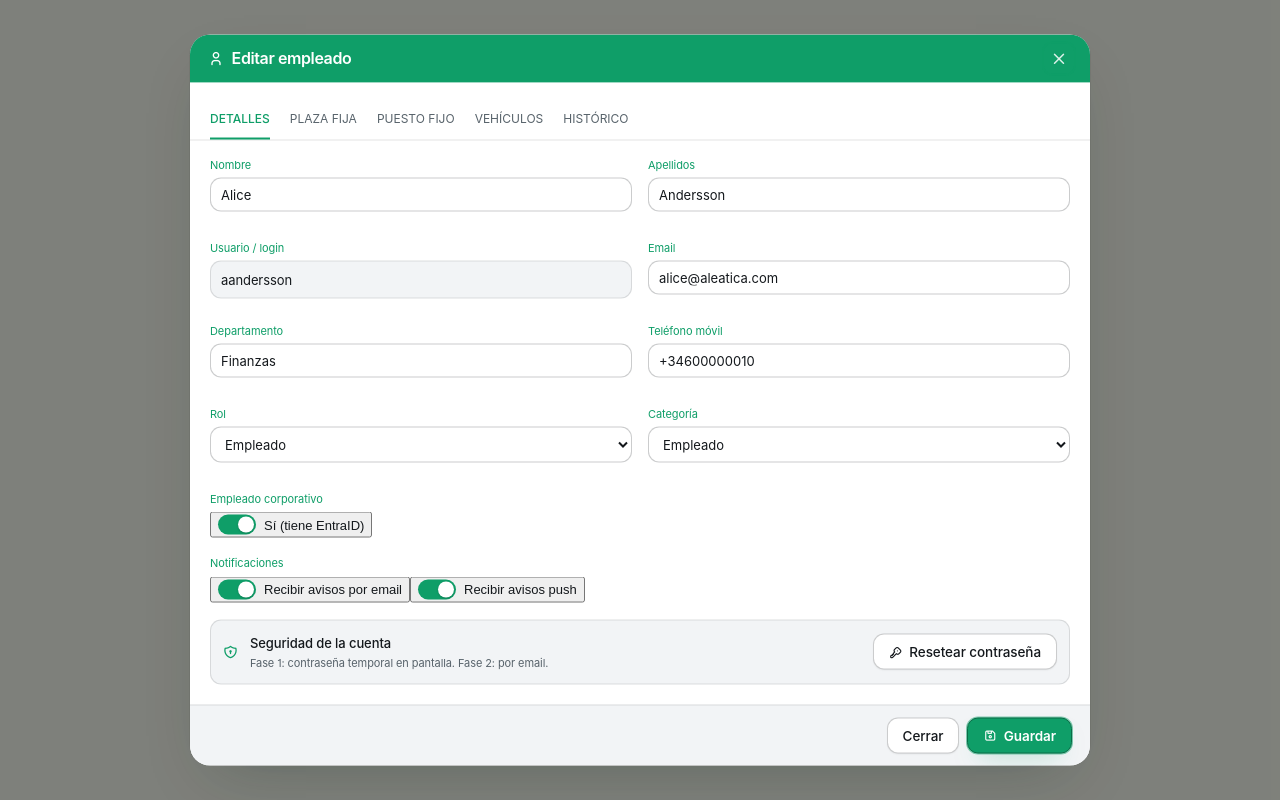
Test: EmployeeFormModal › should_open_reset_password_modal_from_details_when_editing
Click the button "Resetear contraseña". click: (965, 652)
box: [873, 634, 1057, 670]
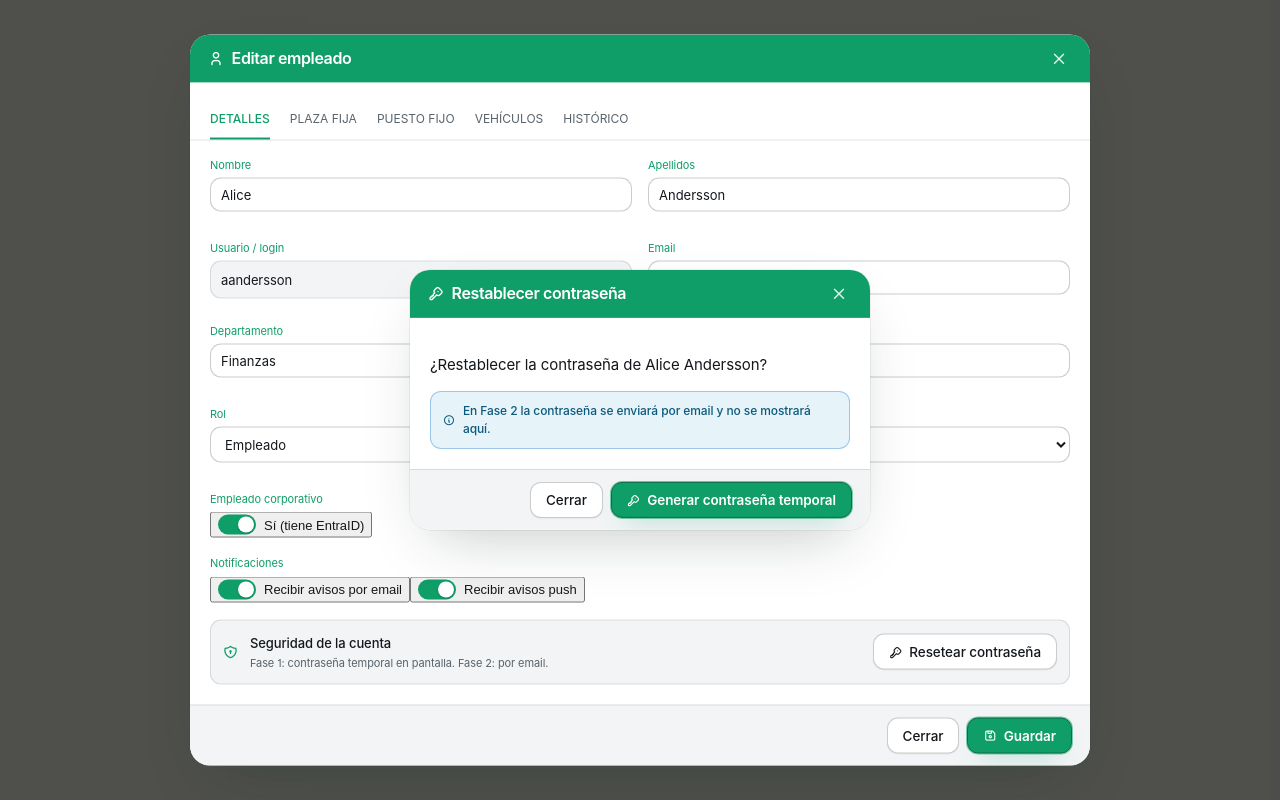
Result: the button "Generar contraseña temporal" is shown at [611, 482, 852, 518]
